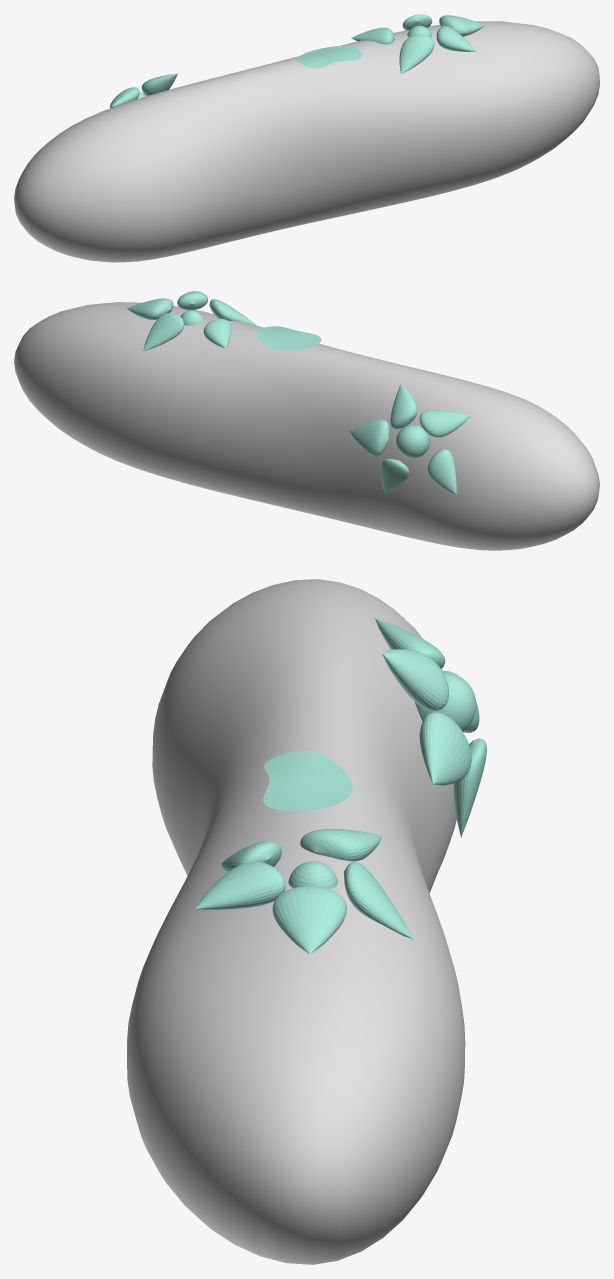
The model's file is Tufelka.fbx.
The picture shows the model from 3 angles, top to bottom: view 1: azimuth 30°, elevation 25°; view 2: azimuth 150°, elevation 25°; view 3: azimuth 270°, elevation 25°; orthographic projection. The views are drawn at different scales.
Visible parts, largest first — view 1: Cube, Plane, Plane.001; view 2: Cube, Plane.001, Plane; view 3: Cube, Plane, Plane.001, Sphere.
Boxes of the visible parts, bbox=[...] form: Cube: bbox=[14, 21, 599, 262]; Plane: bbox=[296, 14, 485, 73]; Plane.001: bbox=[110, 73, 177, 108]; Cube: bbox=[14, 302, 599, 550]; Plane.001: bbox=[349, 384, 471, 494]; Plane: bbox=[127, 291, 321, 351]; Cube: bbox=[127, 579, 465, 1264]; Plane: bbox=[195, 751, 413, 953]; Plane.001: bbox=[375, 618, 486, 837]; Sphere: bbox=[288, 861, 337, 889].
Bounding box in the file's own units: 334 × 95.33 × 90.86.
